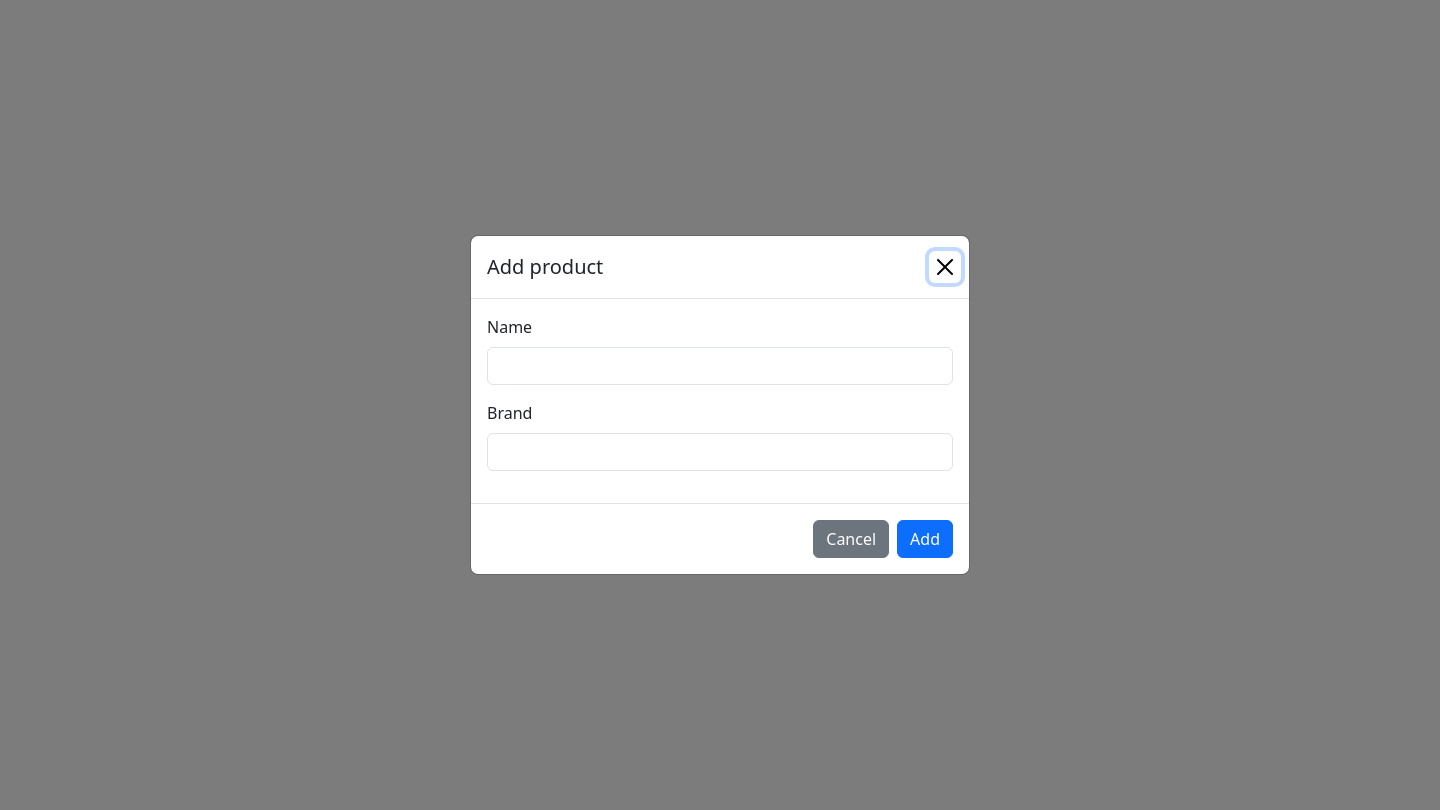
Test: CreateProductModal › shows error message when creation fails
In the field labelled "Name": (720, 366) left=487, top=347, right=953, bottom=385, type "Chocolate Chips"
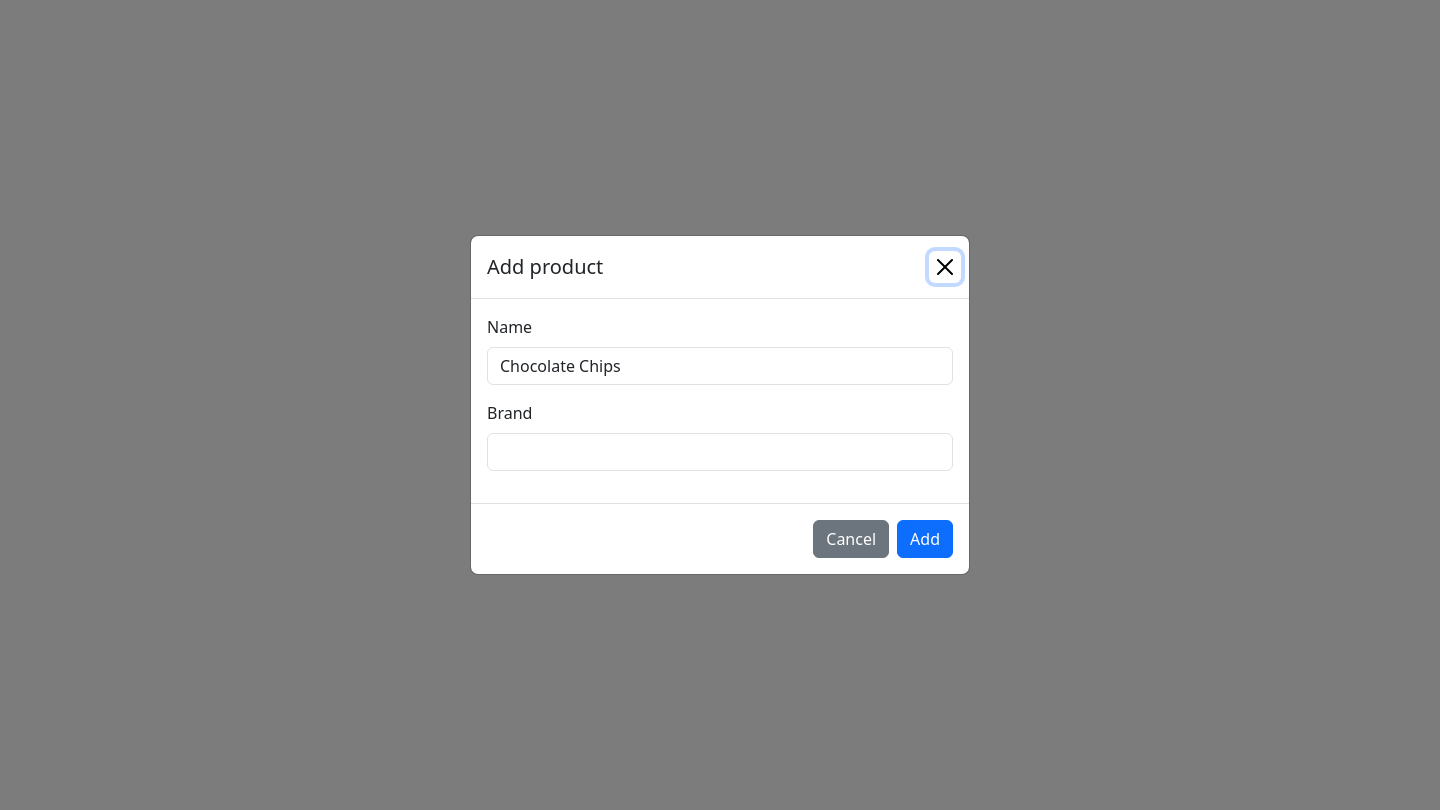
Click the button "Add": (925, 539) left=897, top=520, right=953, bottom=558
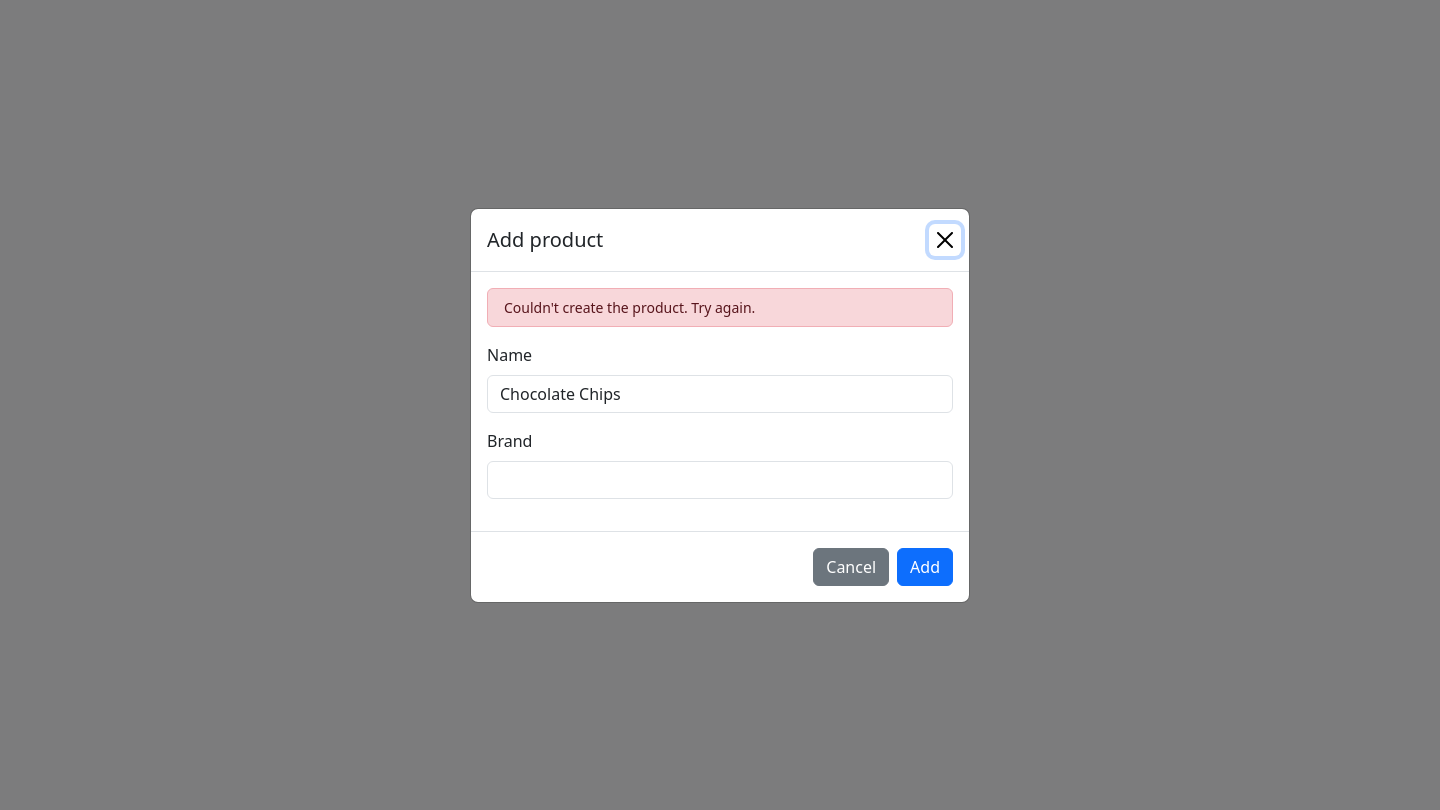
Expected: the message reads "Couldn't create the product. Try again.", left=504, top=298, right=755, bottom=316
